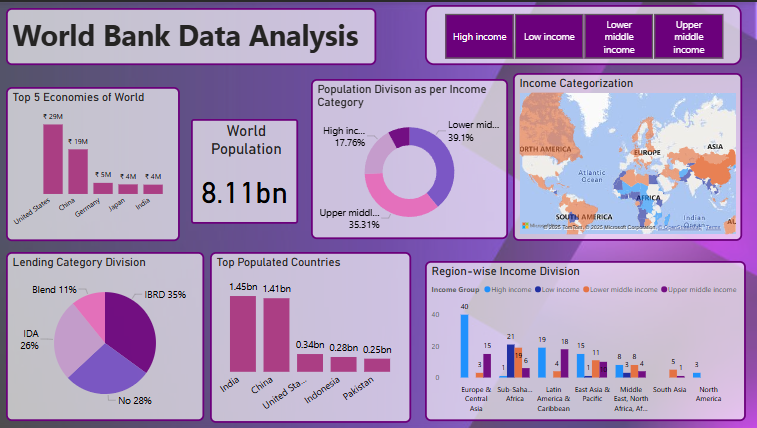

What the dashboard file says about the page in this screenshot:
{"tool":"powerbi","page":{"name":"Page 1","canvas":[1280,720],"ordinal":0},"visuals":[{"type":"clusteredColumnChart","title":"Region-wise Income Division","fields":{"Category":["Income_wise_distribution.Region"],"Series":["Income_wise_distribution.Income Group"],"Y":["Sum(Income_wise_distribution.Region_Wise_Income)"]},"box":[722.3,435.1,539.2,268.8],"z":0},{"type":"pieChart","title":"Lending Category Division","fields":{"Category":["Lending_Division.Lending category"],"Y":["Sum(Lending_Division.Lending )"]},"box":[18.5,419.9,332.6,283.9],"z":1000},{"type":"filledMap","title":"Income Categorization","fields":{"Category":["Country.Short Name"],"Series":["Country.Income Group"]},"box":[870.1,119.3,384.7,282.2],"z":2000},{"type":"slicer","fields":{"Values":["Country.Income Group"]},"box":[722.3,5,532.5,100.8],"z":3000},{"type":"columnChart","title":"Top 5 Economies of World","fields":{"Category":["Gross domestic product 2024 (GDP).Economy"],"Y":["Sum(Gross domestic product 2024 (GDP).US dollars))"]},"box":[18.5,142.8,292.3,258.7],"z":4000},{"type":"columnChart","title":"Top Populated Countries","fields":{"Category":["Population 2024 (POP).Economy"],"Y":["Max(Population 2024 (POP).Population)"]},"box":[361.2,419.9,337.6,287.2],"z":5000},{"type":"donutChart","title":"Population Divison as per Income Category","fields":{"Category":["Income wise population.Economy"],"Y":["Sum(Income wise population.Population)"]},"box":[530.8,129.3,330.9,268.8],"z":5001},{"type":"card","title":"World Population","fields":{"Values":["Sum(Country wise population.Population)"]},"box":[329.2,196.5,179.7,176.4],"z":5002},{"type":"textbox","box":[18.5,10.1,621.5,95.7],"z":5003}]}

Visuals, with their boxes in screenshot pixels (x1, y1, x2, y2), scaled from the page's 1280x720 canvas onto the 757x428 screenshot:
"Region-wise Income Division" clusteredColumnChart: <box>427,259,746,418</box>
"Lending Category Division" pieChart: <box>11,250,208,418</box>
"Income Categorization" filledMap: <box>515,71,742,239</box>
slicer - Country.Income Group: <box>427,3,742,63</box>
"Top 5 Economies of World" columnChart: <box>11,85,184,239</box>
"Top Populated Countries" columnChart: <box>214,250,413,420</box>
"Population Divison as per Income Category" donutChart: <box>314,77,510,237</box>
"World Population" card: <box>195,117,301,222</box>
textbox: <box>11,6,378,63</box>
